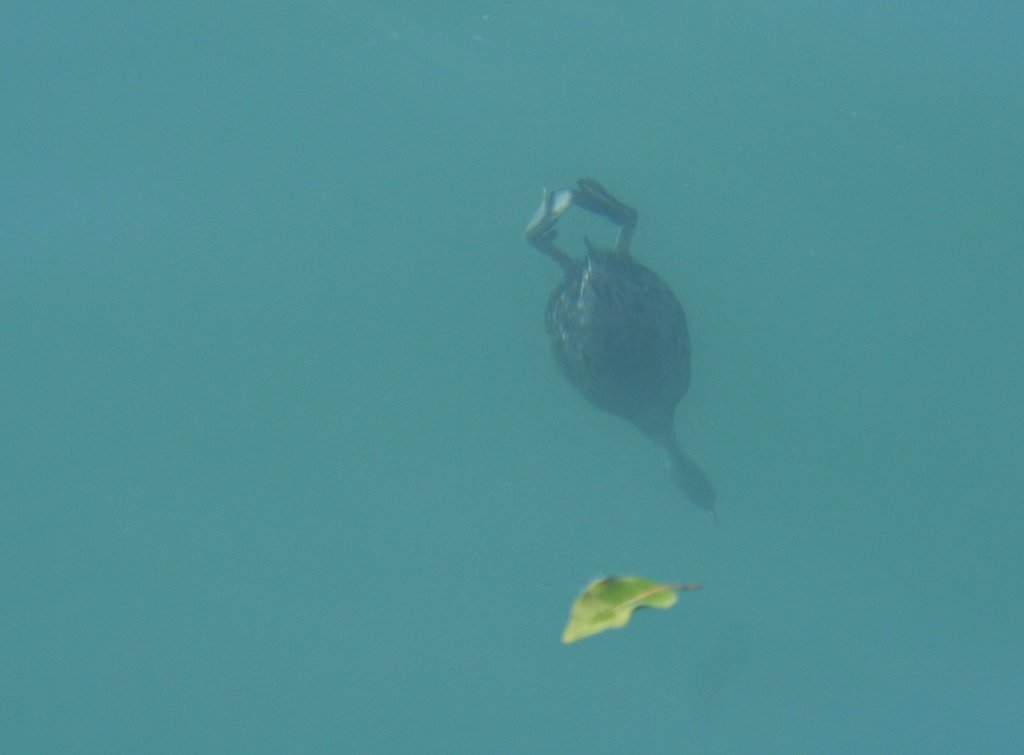Animal: (523, 175, 719, 518)
